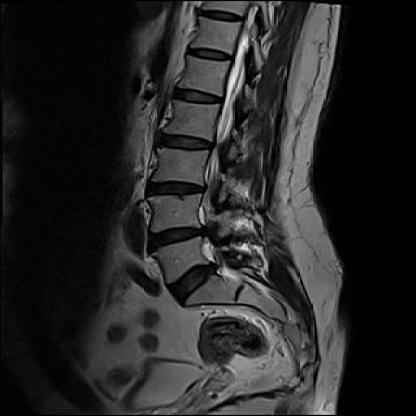Disc Bulgerotation: (157, 133, 214, 155), (150, 178, 203, 200), (150, 227, 204, 247)
Disc Protrusionrotation: (169, 259, 223, 304)
